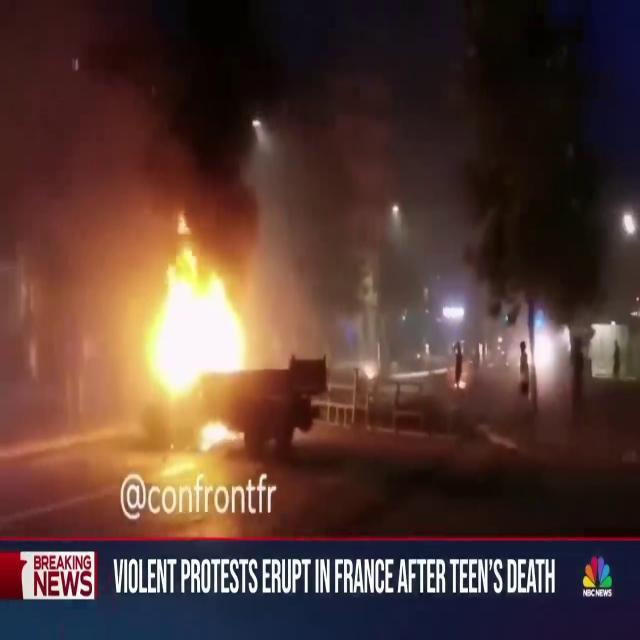Fire: (124, 230, 260, 406)
